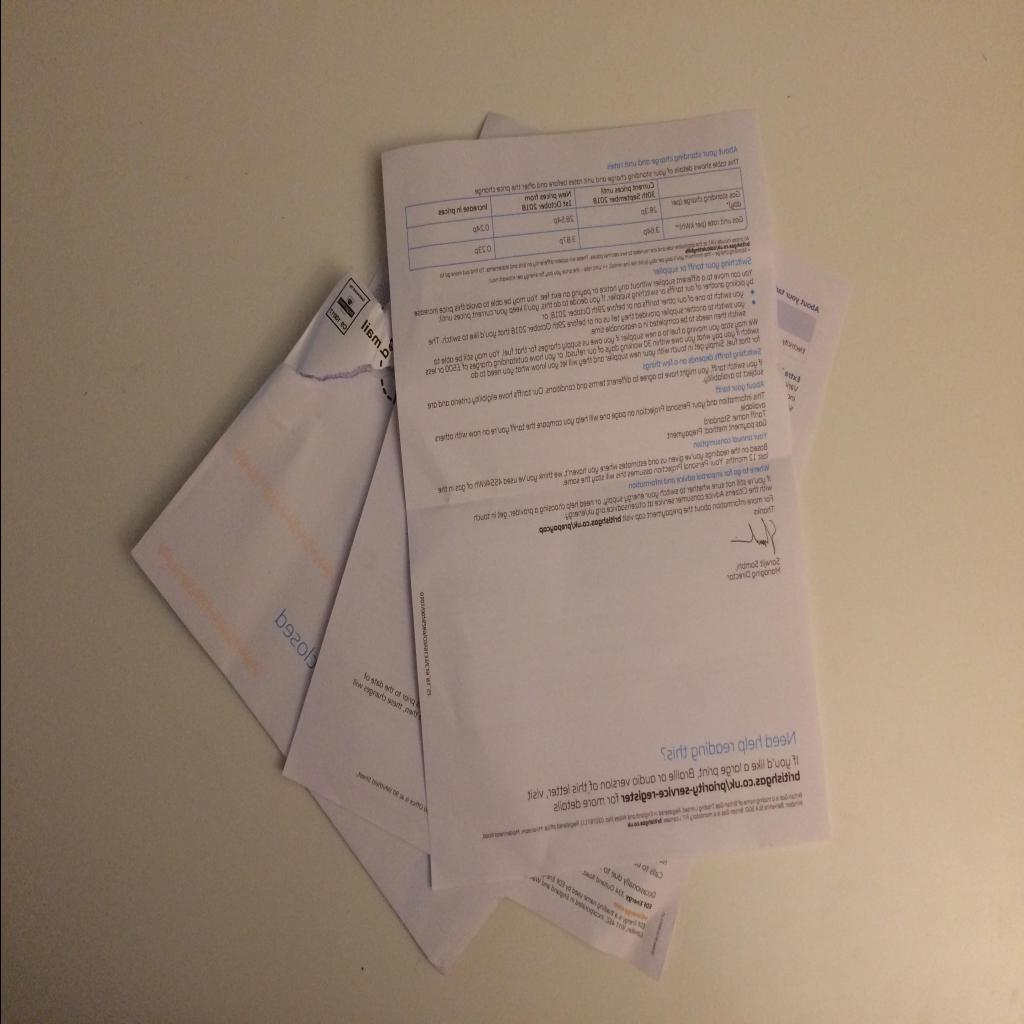Normal paper: (280, 112, 852, 980), (380, 108, 830, 890), (130, 266, 504, 976)
